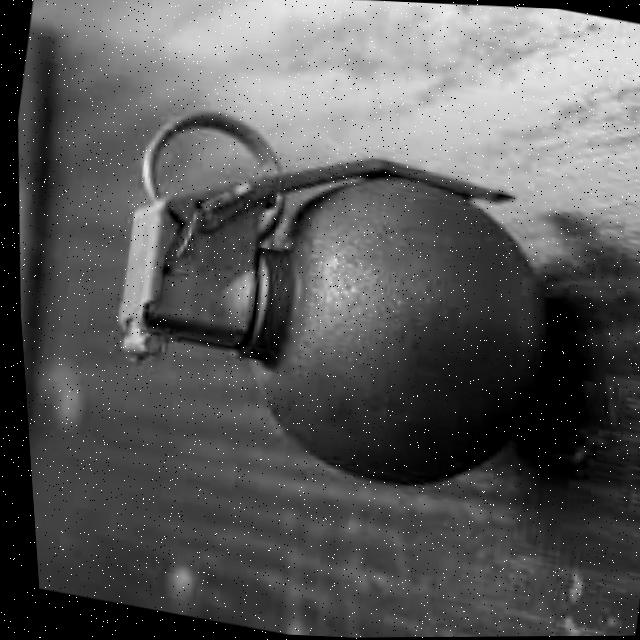grenade: (61, 100, 604, 527)
